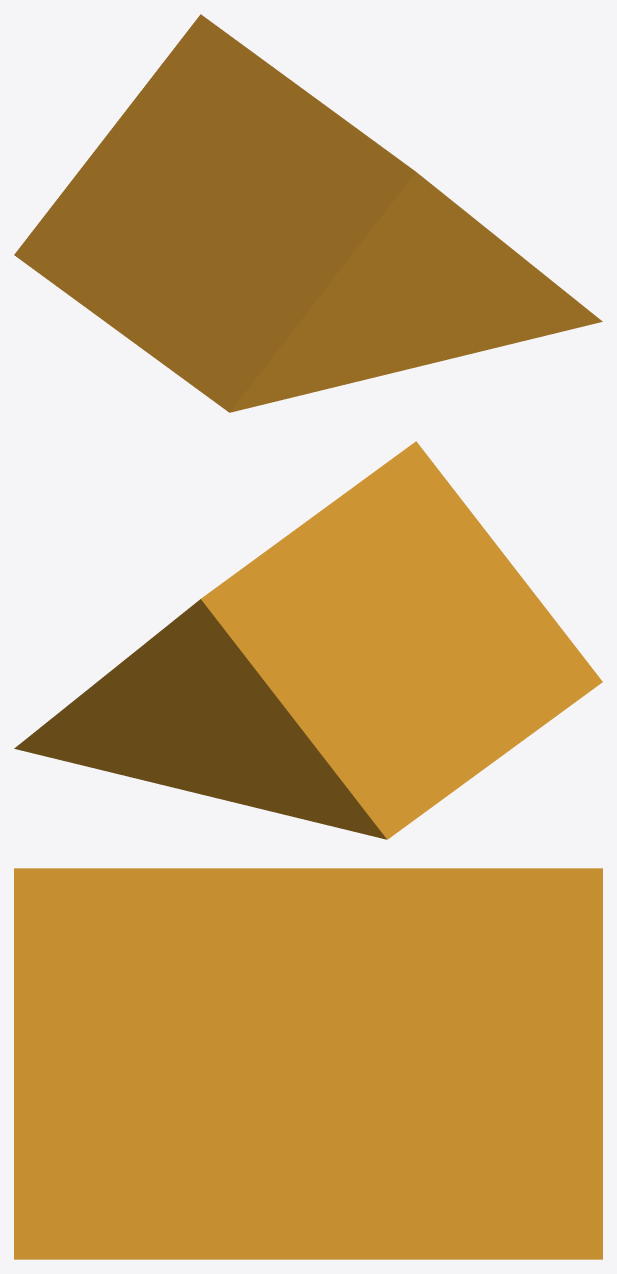
Rendered from Roof-Mid-4x4x2-Straight-Ridge.FBX.
3 renders of one model, top to bottom at view 1: azimuth 30°, elevation 25°; view 2: azimuth 150°, elevation 25°; view 3: azimuth 270°, elevation 25°, orthographic. The views are drawn at different scales.
Visible parts, largest first — view 1: Roof-Mid-4x4x2-Straight-Ridge; view 2: Roof-Mid-4x4x2-Straight-Ridge; view 3: Roof-Mid-4x4x2-Straight-Ridge.
Boxes of the visible parts, x1,y1,x2,y2 form: Roof-Mid-4x4x2-Straight-Ridge: [14, 14, 602, 412]; Roof-Mid-4x4x2-Straight-Ridge: [14, 441, 602, 839]; Roof-Mid-4x4x2-Straight-Ridge: [14, 868, 602, 1259].
Bounding box in the file's own units: 40 × 40 × 20.
